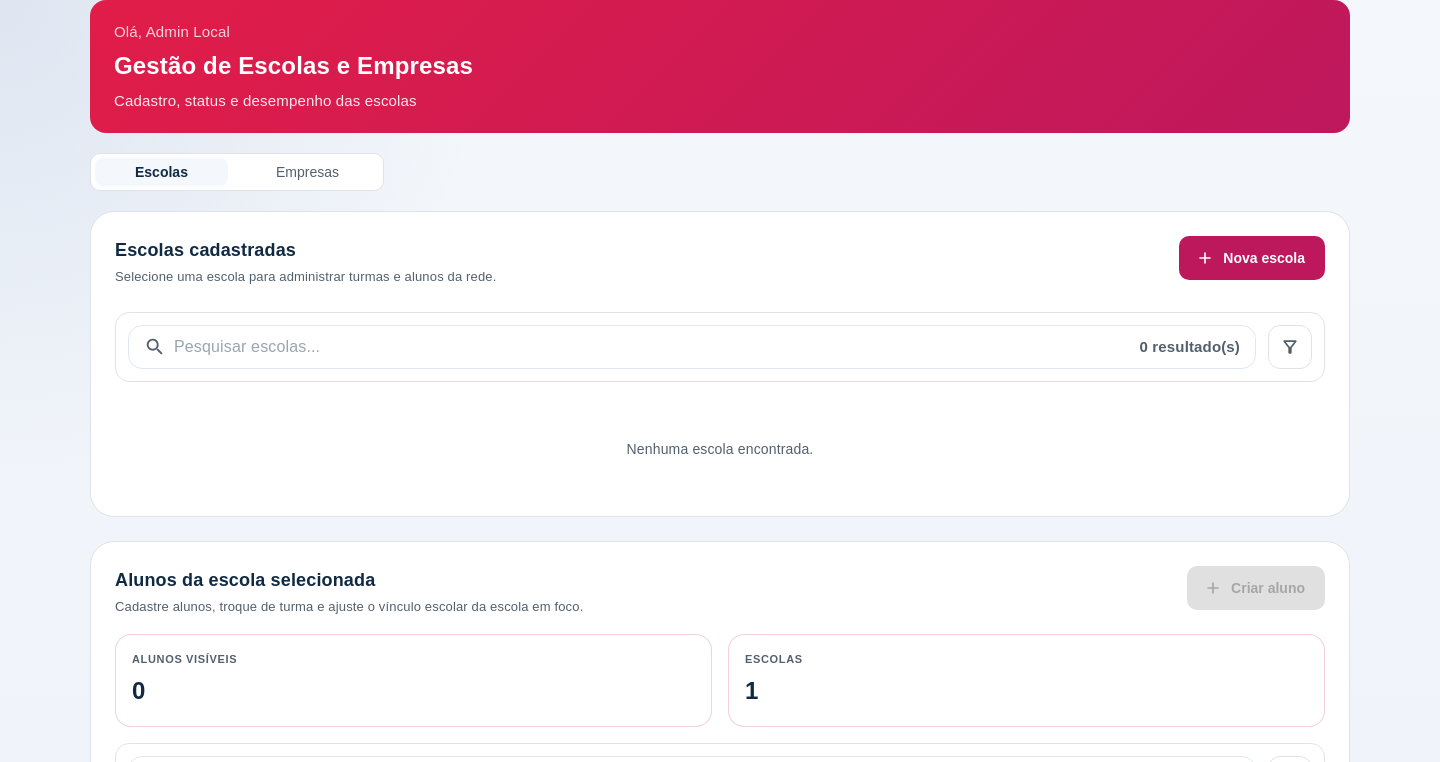
Scenario: SchoolCompanyPage filters companies by search query
Click the button with test id "toggle-empresa". click: (307, 172)
box: x1=236 y1=158 x2=379 y2=186
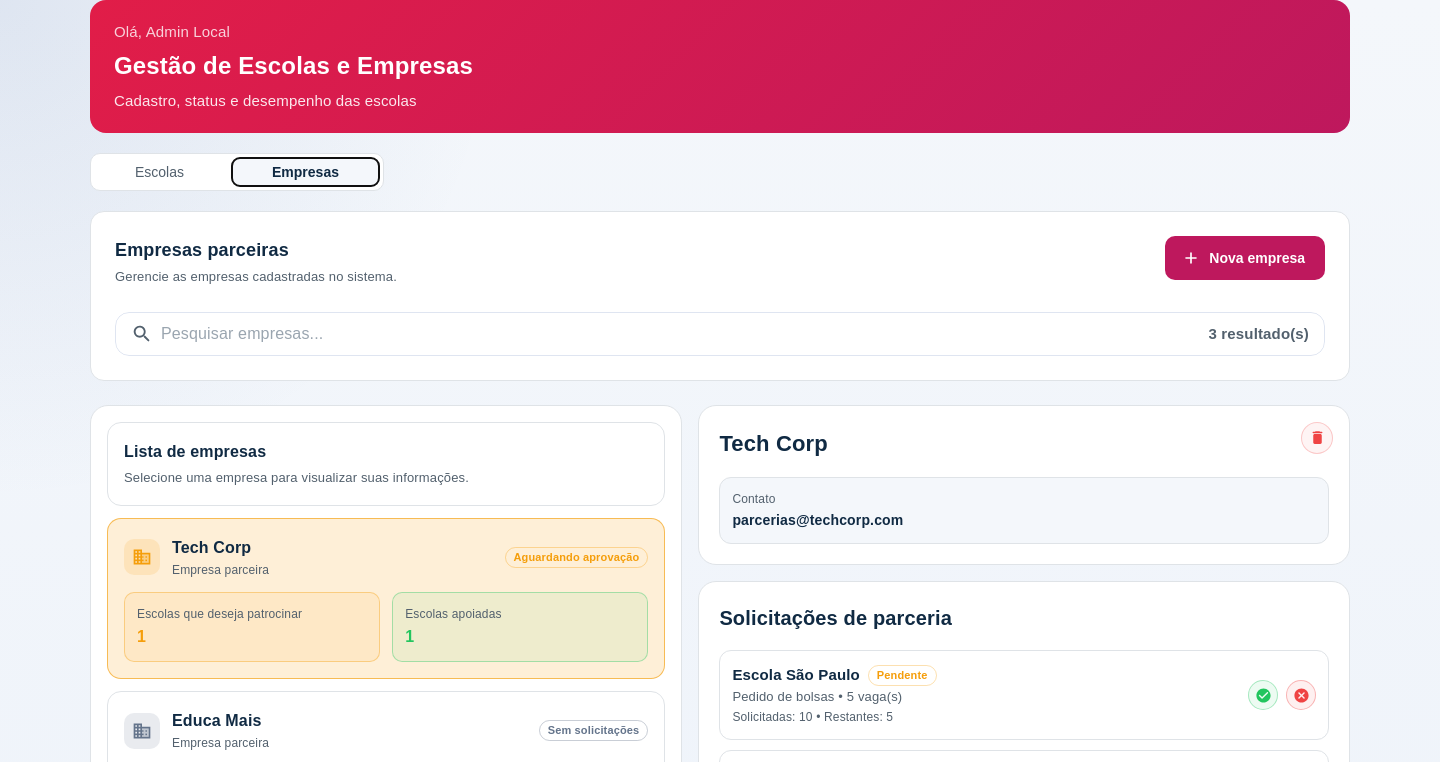
Expected: the element with test id "company-item-company-1" is shown, x1=107 y1=518 x2=665 y2=680
Type "Futuro" into the search field with placeholder "Pesquisar empresas...". click: (681, 334)
box: x1=161 y1=317 x2=1200 y2=350
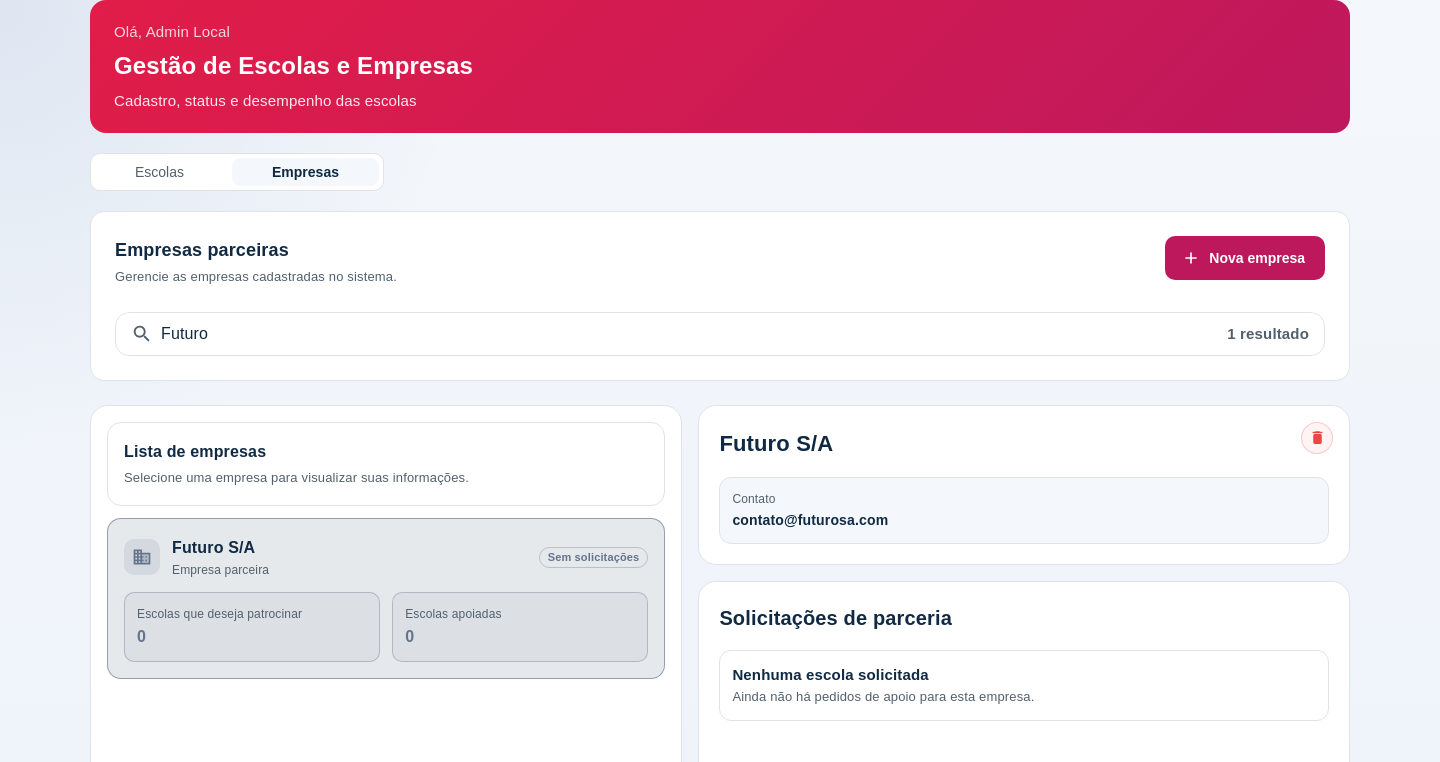
Expected: the text "Futuro S/A" in the row of "Sem solicitações" is shown, x1=172 y1=539 x2=255 y2=556
Expected: the text "Educa Mais" is gone
